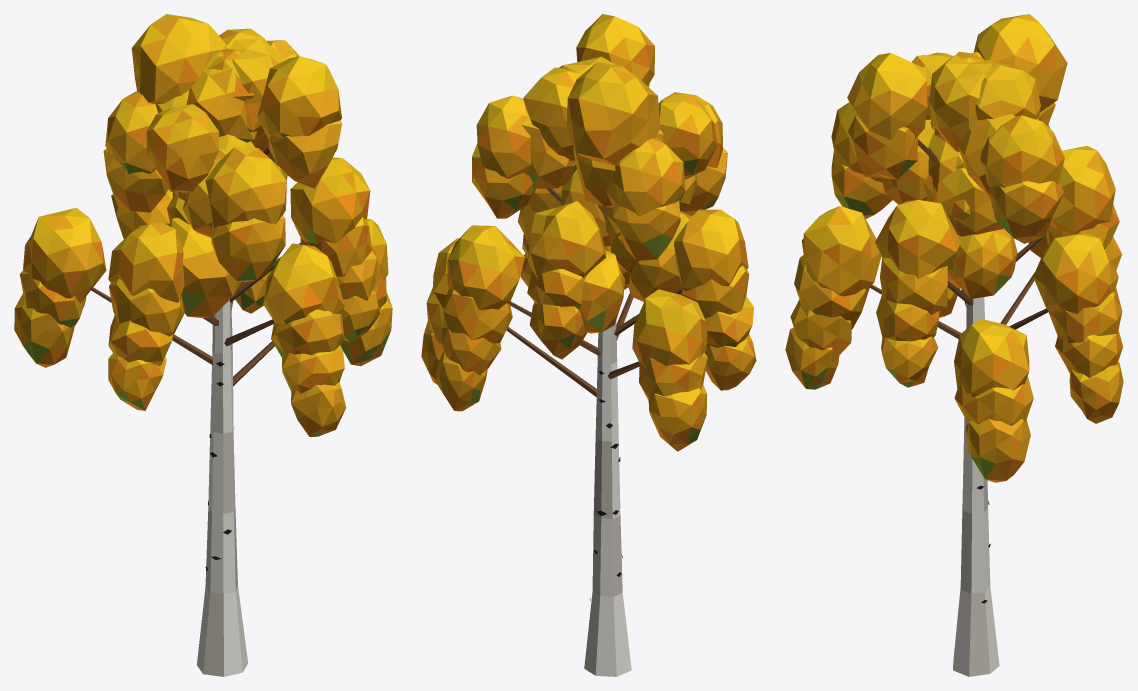
The model's file is birch_tree.glb.
3 views of the same model, side by side, from view 1: azimuth 30°, elevation 25°; view 2: azimuth 150°, elevation 25°; view 3: azimuth 270°, elevation 25° (orthographic). The views are drawn at different scales.
Parts seen in each view (by area): view 1: birch_tree; view 2: birch_tree; view 3: birch_tree.
Part boxes in pixels (x1,y1,x2,y2): birch_tree: [14, 14, 392, 676]; birch_tree: [421, 14, 756, 676]; birch_tree: [785, 14, 1123, 676].
Size of the model in its own units: 4.65 by 8.76 by 4.22.
